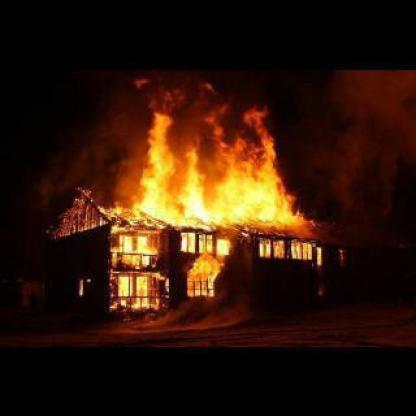fire: (112, 102, 302, 226), (182, 254, 222, 302), (112, 235, 157, 267), (112, 276, 151, 307), (260, 238, 285, 260), (293, 240, 316, 262), (198, 235, 214, 256), (180, 233, 196, 253), (218, 240, 231, 256)
